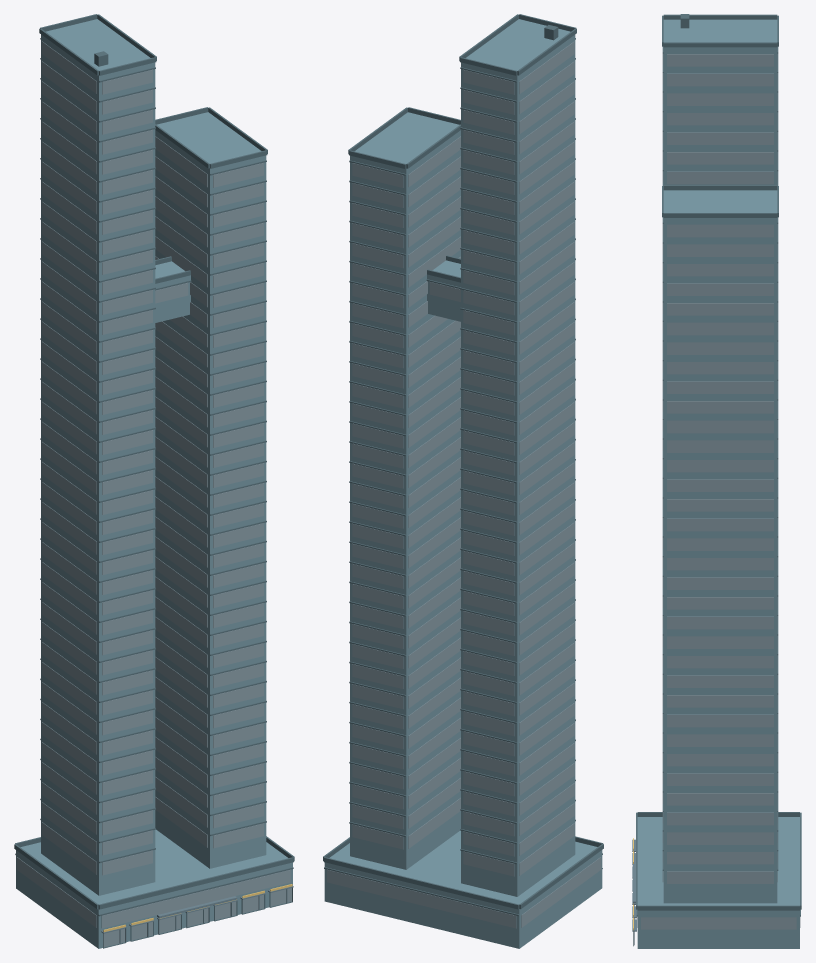
File: commercial_4x3_tower_split.glb
The picture shows the model from 3 angles, left to right: view 1: azimuth 30°, elevation 25°; view 2: azimuth 150°, elevation 25°; view 3: azimuth 270°, elevation 25°; orthographic projection. The views are drawn at different scales.
Parts seen in each view (by area): view 1: commercial_4x3_tower_split_0; view 2: commercial_4x3_tower_split_0; view 3: commercial_4x3_tower_split_0.
Part boxes in pixels (x1=…): commercial_4x3_tower_split_0: x1=14, y1=14, x2=294, y2=948; commercial_4x3_tower_split_0: x1=323, y1=14, x2=603, y2=948; commercial_4x3_tower_split_0: x1=632, y1=14, x2=801, y2=948.
Bounding box in the file's own units: 31 × 130 × 23.5.
